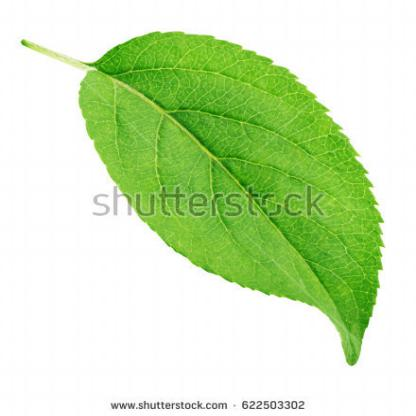apple leaf: (78, 26, 407, 374)
